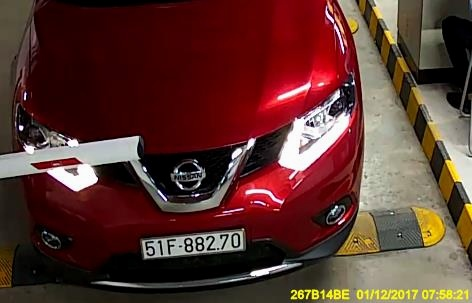plate: (139, 230, 248, 260)
